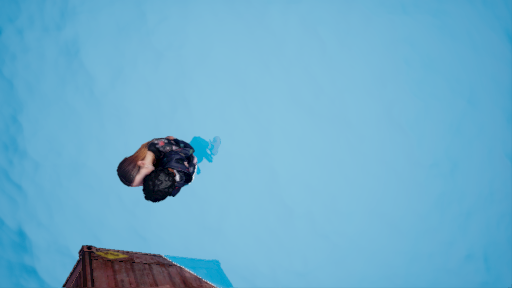person: (114, 125, 231, 206)
